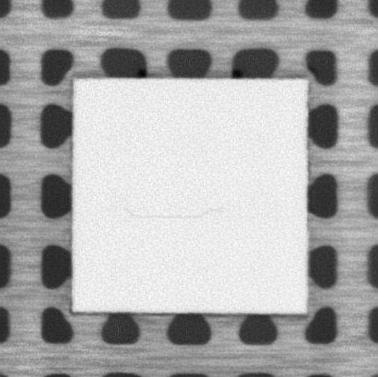DIE_CRACK: (123, 203, 225, 218)
